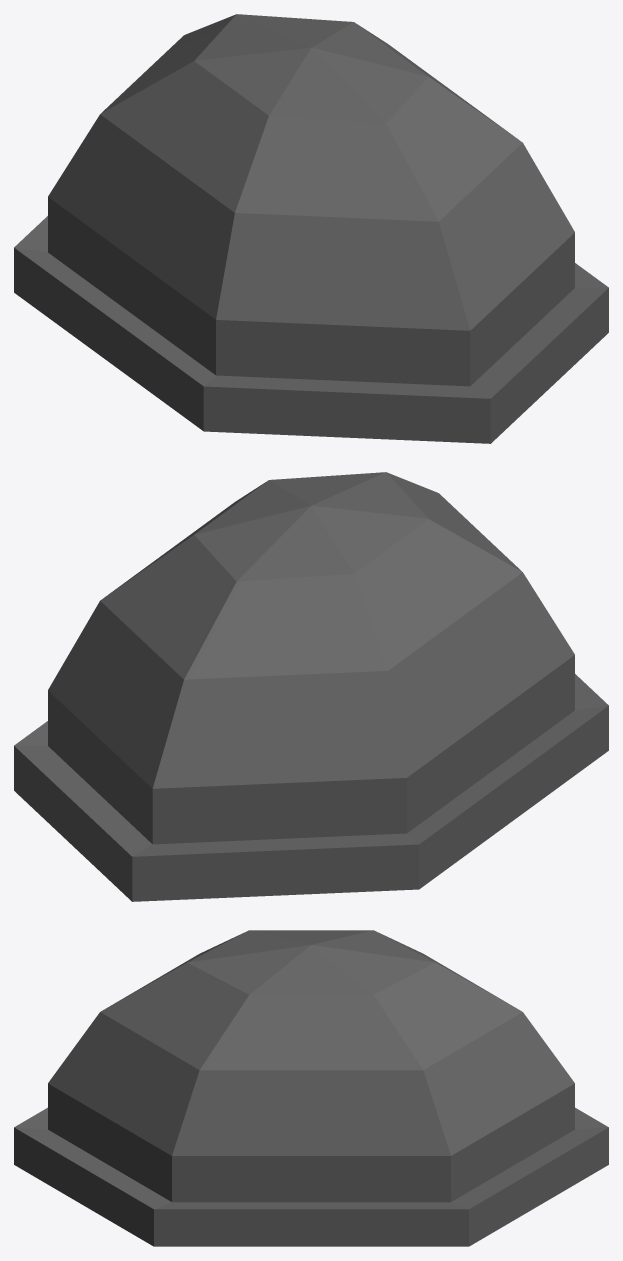
Rendered from lever_base.fbx.
3 views of the same model, one above another, from view 1: azimuth 30°, elevation 25°; view 2: azimuth 150°, elevation 25°; view 3: azimuth 270°, elevation 25° (orthographic). The views are drawn at different scales.
Parts seen in each view (by area): view 1: pSphere1; view 2: pSphere1; view 3: pSphere1.
Boxes of the visible parts, left/top/right/bottom form: pSphere1: left=14, top=14, right=608, bottom=443; pSphere1: left=14, top=472, right=608, bottom=901; pSphere1: left=14, top=930, right=608, bottom=1246.
Bounding box in the file's own units: 1.48 × 0.9228 × 2.26.
